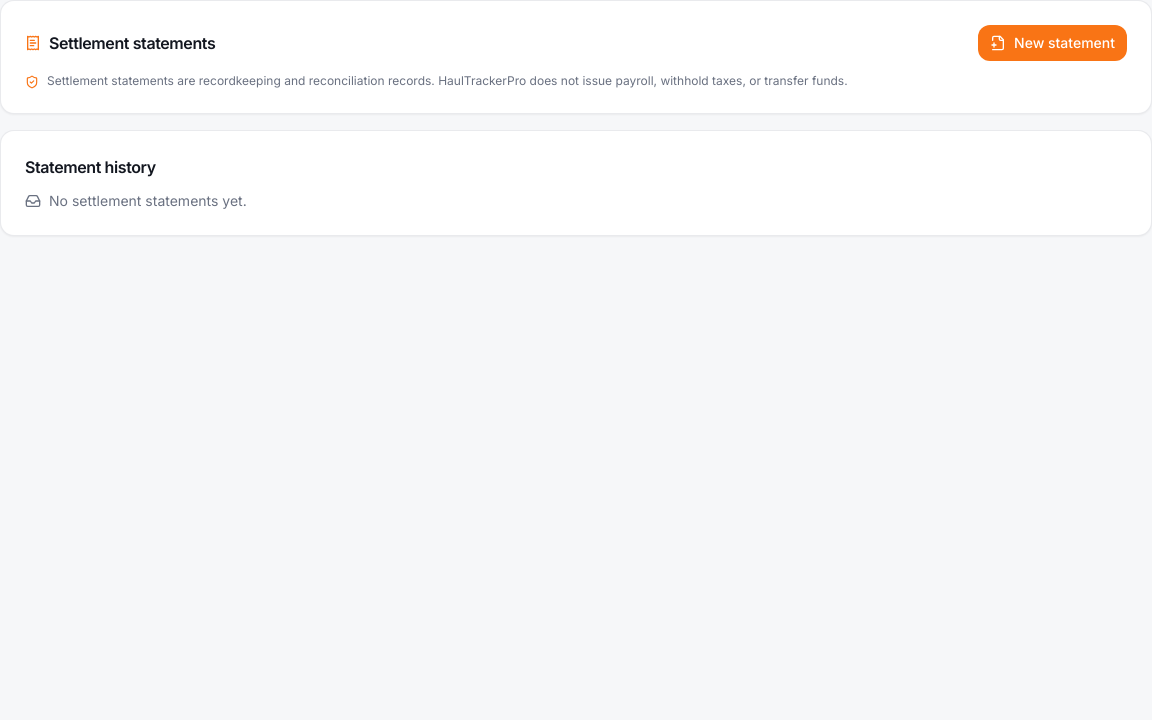
Test: E1 · rendered draft creation opens the returned statement › opens the exact returned draft even while the list cache is stale
The image size is (1152, 720).
Click the button with test id "business-settlement-new-toggle".
click(1052, 43)  # box [978, 25, 1127, 61]
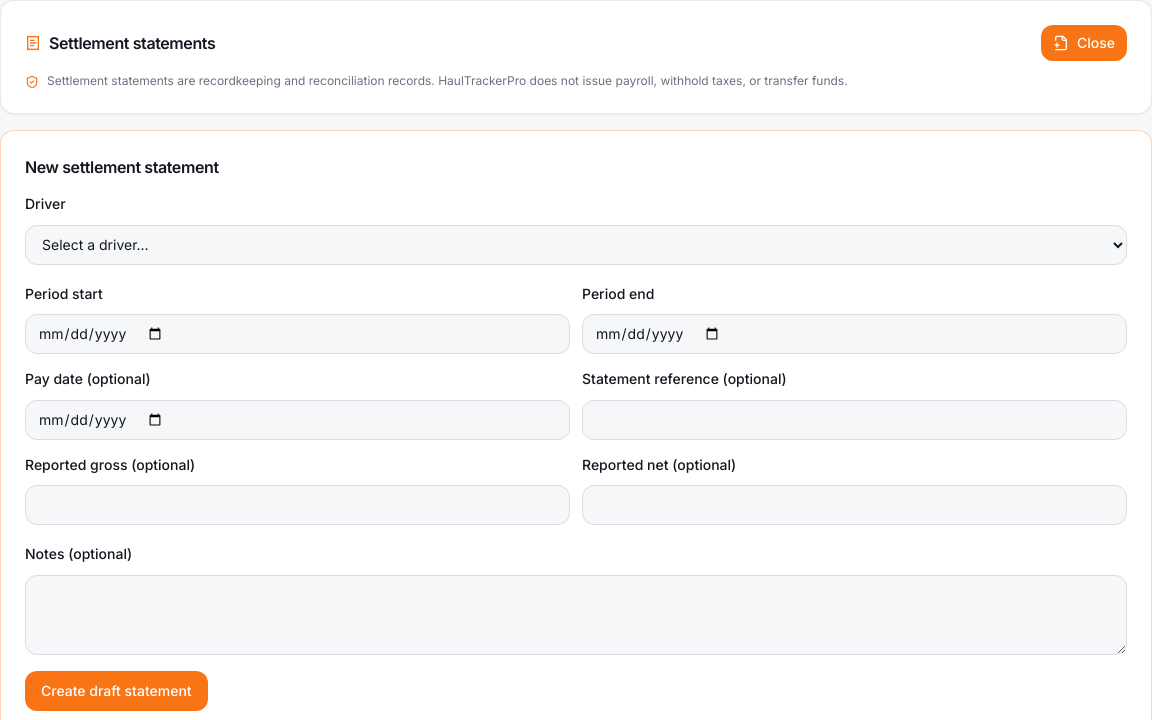
Select "Dana Hauler" in the dropdown with test id "business-settlement-driver-select" at (576, 245), box [25, 225, 1127, 265]
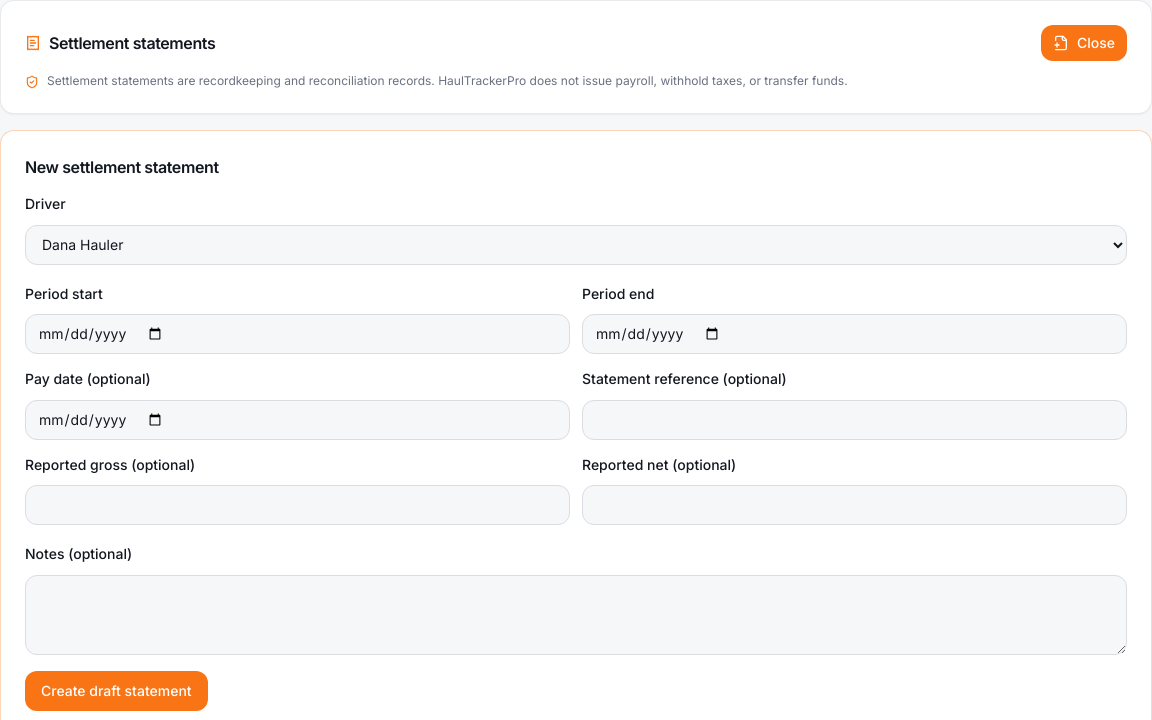
Type "2026-08-03" into the date field labelled "Period start".
click(298, 334); type("2026-08-03")  # box [25, 314, 570, 354]
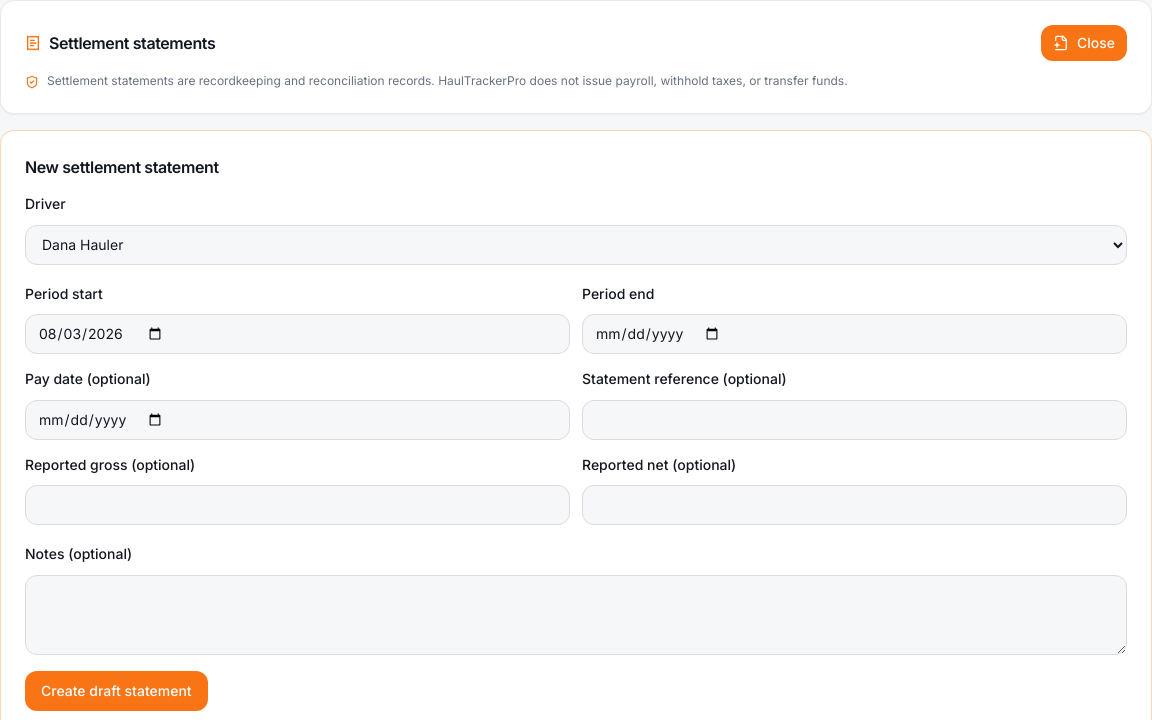
Type "2026-08-09" into the date field labelled "Period end".
click(854, 334); type("2026-08-09")  # box [582, 314, 1127, 354]
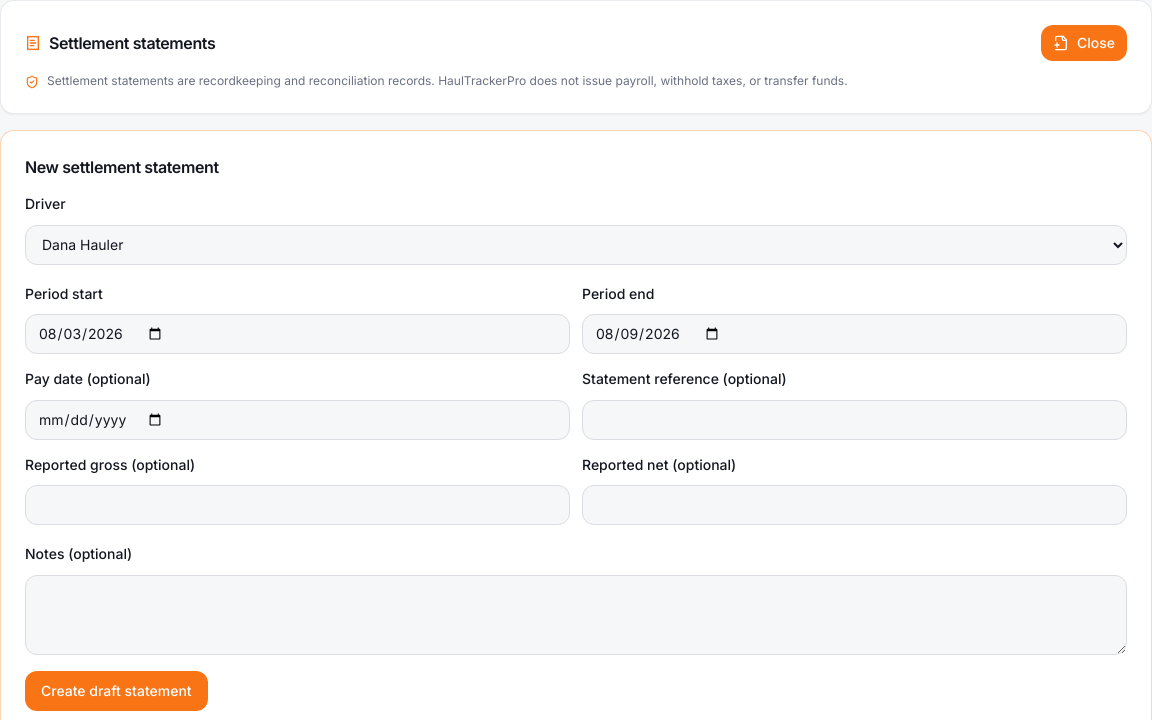
Click the button with test id "business-settlement-create".
click(116, 691)  # box [25, 671, 208, 711]
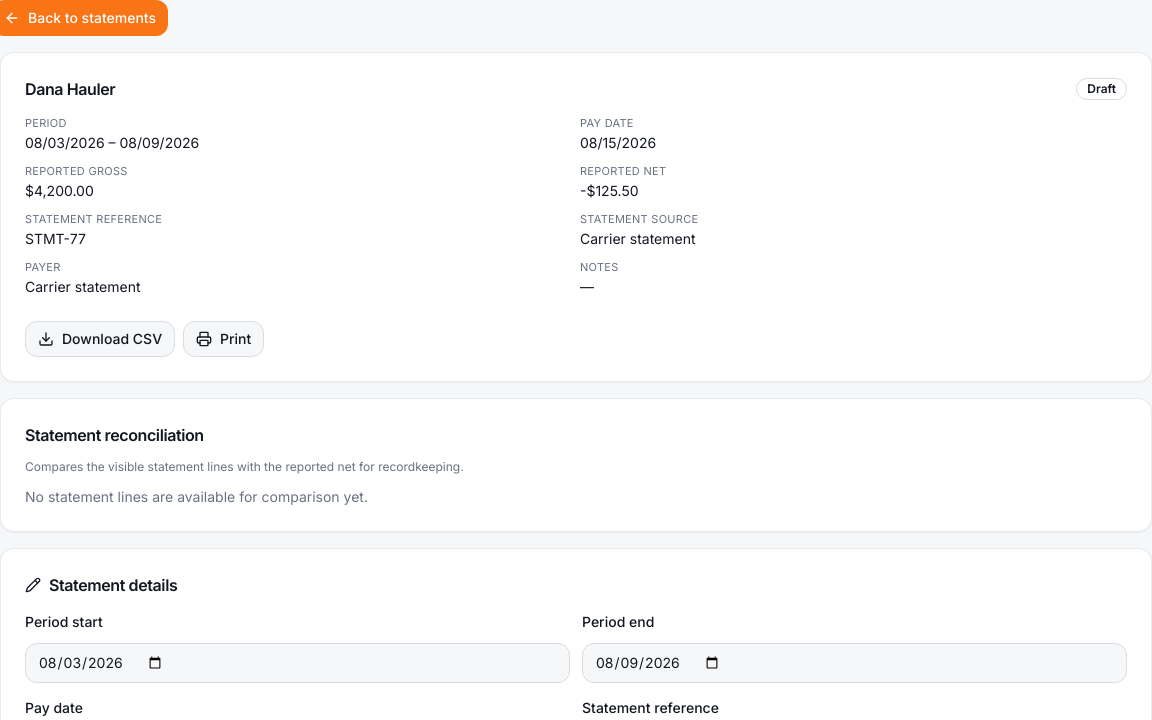
Now the text with test id "business-settlement-source-label" reads "Carrier statement", box [580, 230, 696, 247]
Now the text with test id "business-settlement-payer-label" reads "Carrier statement", box [25, 278, 140, 295]
